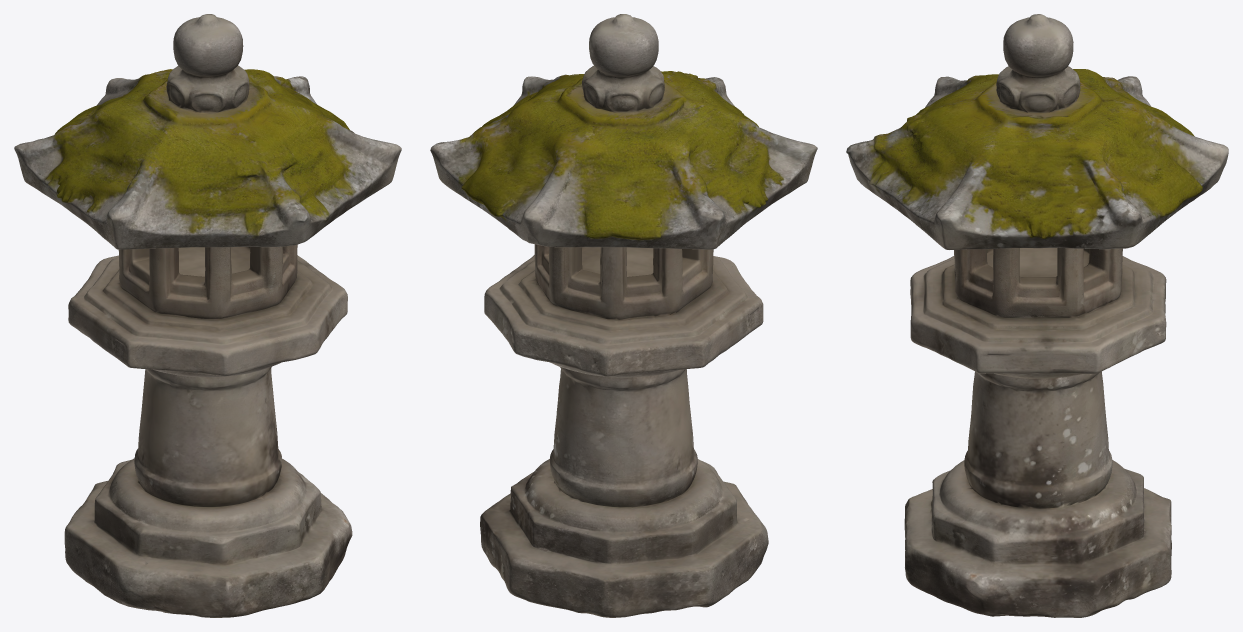
3 renders of one model, left to right at view 1: azimuth 30°, elevation 25°; view 2: azimuth 150°, elevation 25°; view 3: azimuth 270°, elevation 25°, orthographic.
Parts seen in each view (by area): view 1: tripo_node_c1fc08e8-5049-4e2e-8e69-d6af53e57a5f; view 2: tripo_node_c1fc08e8-5049-4e2e-8e69-d6af53e57a5f; view 3: tripo_node_c1fc08e8-5049-4e2e-8e69-d6af53e57a5f.
Part boxes in pixels (left/top/right/bottom): tripo_node_c1fc08e8-5049-4e2e-8e69-d6af53e57a5f: left=14, top=14, right=401, bottom=617; tripo_node_c1fc08e8-5049-4e2e-8e69-d6af53e57a5f: left=430, top=14, right=817, bottom=617; tripo_node_c1fc08e8-5049-4e2e-8e69-d6af53e57a5f: left=846, top=14, right=1228, bottom=617.
Bounding box in the file's own units: 0.5537 × 1 × 0.6296.
Materials: 1 (1 with a texture image).
